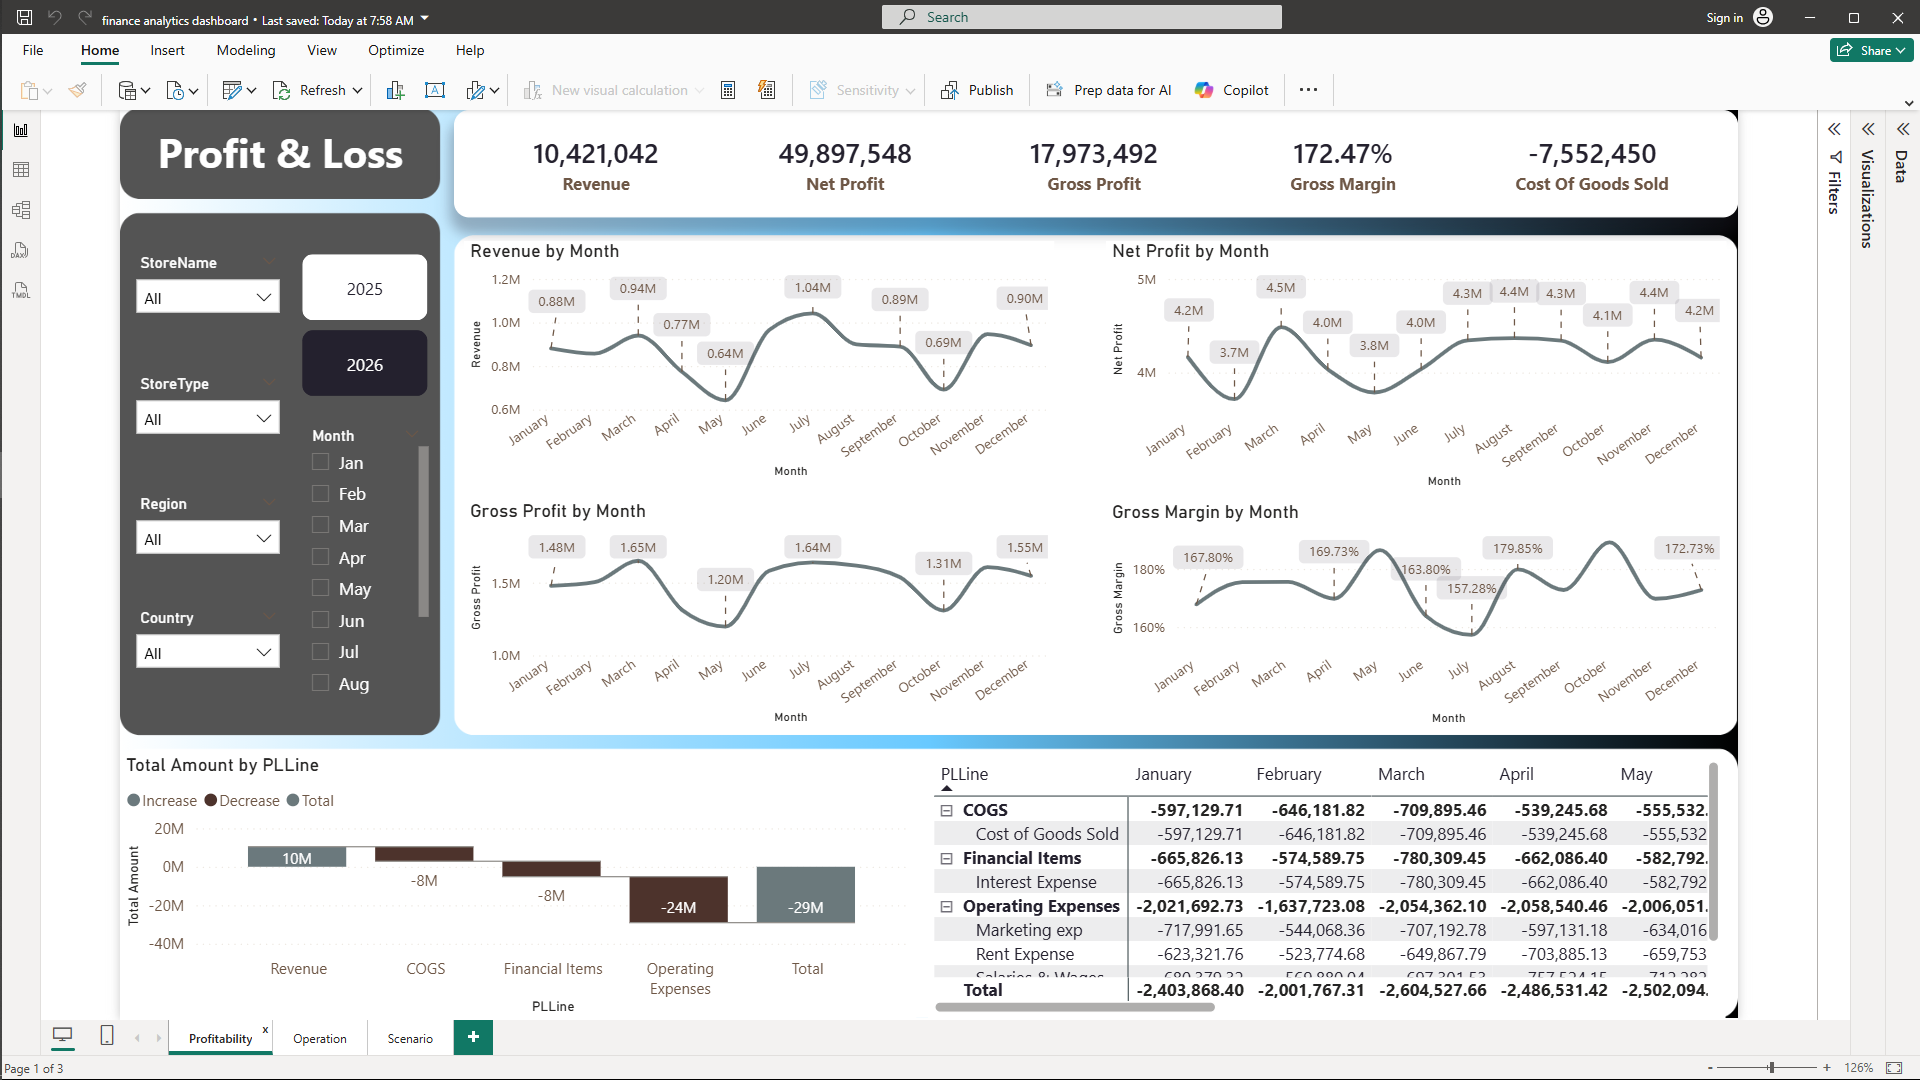

This screenshot's page, from the dashboard's own definition file:
{"tool":"powerbi","page":{"name":"Profitability","canvas":[1280,720],"ordinal":0},"visuals":[{"type":"cardVisual","fields":{"Data":["_Measures.Revenue","_Measures.Net Profit","_Measures.Gross Profit","_Measures.Gross Margin","_Measures.Cost Of Goods Sold (COGS)"]},"box":[264.6,0,1015.5,84.6],"z":0},{"type":"lineChart","fields":{"Y":["_Measures.Revenue"],"Category":["dim_date.Date.Variation.Date Hierarchy.Year","dim_date.Date.Variation.Date Hierarchy.Quarter","dim_date.Date.Variation.Date Hierarchy.Month","dim_date.Date.Variation.Date Hierarchy.Day"]},"box":[272.6,103.5,467.5,192.3],"z":1000},{"type":"lineChart","fields":{"Y":["_Measures.Net Profit"],"Category":["dim_date.Date.Variation.Date Hierarchy.Year","dim_date.Date.Variation.Date Hierarchy.Quarter","dim_date.Date.Variation.Date Hierarchy.Month","dim_date.Date.Variation.Date Hierarchy.Day"]},"box":[780.3,103.8,490.6,200.1],"z":2000},{"type":"lineChart","fields":{"Y":["_Measures.Gross Profit"],"Category":["dim_date.Date.Variation.Date Hierarchy.Year","dim_date.Date.Variation.Date Hierarchy.Quarter","dim_date.Date.Variation.Date Hierarchy.Month","dim_date.Date.Variation.Date Hierarchy.Day"]},"box":[272.6,309.6,467.5,181.1],"z":3000},{"type":"lineChart","fields":{"Y":["_Measures.Gross Margin"],"Category":["dim_date.Date.Variation.Date Hierarchy.Year","dim_date.Date.Variation.Date Hierarchy.Quarter","dim_date.Date.Variation.Date Hierarchy.Month","dim_date.Date.Variation.Date Hierarchy.Day"]},"box":[780.3,309.8,490.6,180.8],"z":4000},{"type":"waterfallChart","fields":{"Y":["_Measures.Total Amount"],"Category":["dim_account_mapping.PLLine"]},"box":[0,510.7,629.6,209.3],"z":5000},{"type":"pivotTable","fields":{"Values":["_Measures.Total Amount"],"Columns":["dim_date.Date.Variation.Date Hierarchy.Year","dim_date.Date.Variation.Date Hierarchy.Quarter","dim_date.Date.Variation.Date Hierarchy.Month","dim_date.Date.Variation.Date Hierarchy.Day"],"Rows":["dim_account_mapping.PLLine","dim_account_mapping.AccountName"]},"box":[639.6,510.7,631.3,209.3],"z":6000},{"type":"slicer","fields":{"Values":["dim_stores.Country"]},"box":[3.5,389.9,132.8,82.8],"z":7000},{"type":"slicer","fields":{"Values":["dim_stores.Region"]},"box":[3.5,300.2,132.8,81.1],"z":8000},{"type":"slicer","fields":{"Values":["dim_stores.StoreType"]},"box":[3.5,205.3,132.8,81.1],"z":9000},{"type":"slicer","fields":{"Values":["dim_stores.StoreName"]},"box":[3.5,109.5,132.8,81.1],"z":10000},{"type":"slicer","fields":{"Values":["dim_date.Month (Short)"]},"box":[139,246.1,109.7,226.9],"z":11000},{"type":"advancedSlicerVisual","fields":{"Values":["dim_date.Date.Variation.Date Hierarchy.Year"]},"box":[138.9,109.5,109.5,123.3],"z":12000},{"type":"textbox","box":[14.2,5.9,225.2,58.6],"z":13000}]}

Visuals, with their boxes on the page's 1280x720 design canvas (x1, y1, x2, y2). These are canvas units, not pixel positions in the 1920x1080 screenshot, which may show the page scaled, cropped or inside an application window:
cardVisual - _Measures.Revenue x _Measures.Net Profit: bbox=[265, 0, 1280, 85]
lineChart - _Measures.Revenue x dim_date.Date.Variation.Date Hierarchy.Year: bbox=[273, 104, 740, 296]
lineChart - _Measures.Net Profit x dim_date.Date.Variation.Date Hierarchy.Year: bbox=[780, 104, 1271, 304]
lineChart - _Measures.Gross Profit x dim_date.Date.Variation.Date Hierarchy.Year: bbox=[273, 310, 740, 491]
lineChart - _Measures.Gross Margin x dim_date.Date.Variation.Date Hierarchy.Year: bbox=[780, 310, 1271, 491]
waterfallChart - _Measures.Total Amount x dim_account_mapping.PLLine: bbox=[0, 511, 630, 720]
pivotTable - _Measures.Total Amount x dim_date.Date.Variation.Date Hierarchy.Year: bbox=[640, 511, 1271, 720]
slicer - dim_stores.Country: bbox=[4, 390, 136, 473]
slicer - dim_stores.Region: bbox=[4, 300, 136, 381]
slicer - dim_stores.StoreType: bbox=[4, 205, 136, 286]
slicer - dim_stores.StoreName: bbox=[4, 110, 136, 191]
slicer - dim_date.Month (Short): bbox=[139, 246, 249, 473]
advancedSlicerVisual - dim_date.Date.Variation.Date Hierarchy.Year: bbox=[139, 110, 248, 233]
textbox: bbox=[14, 6, 239, 64]
